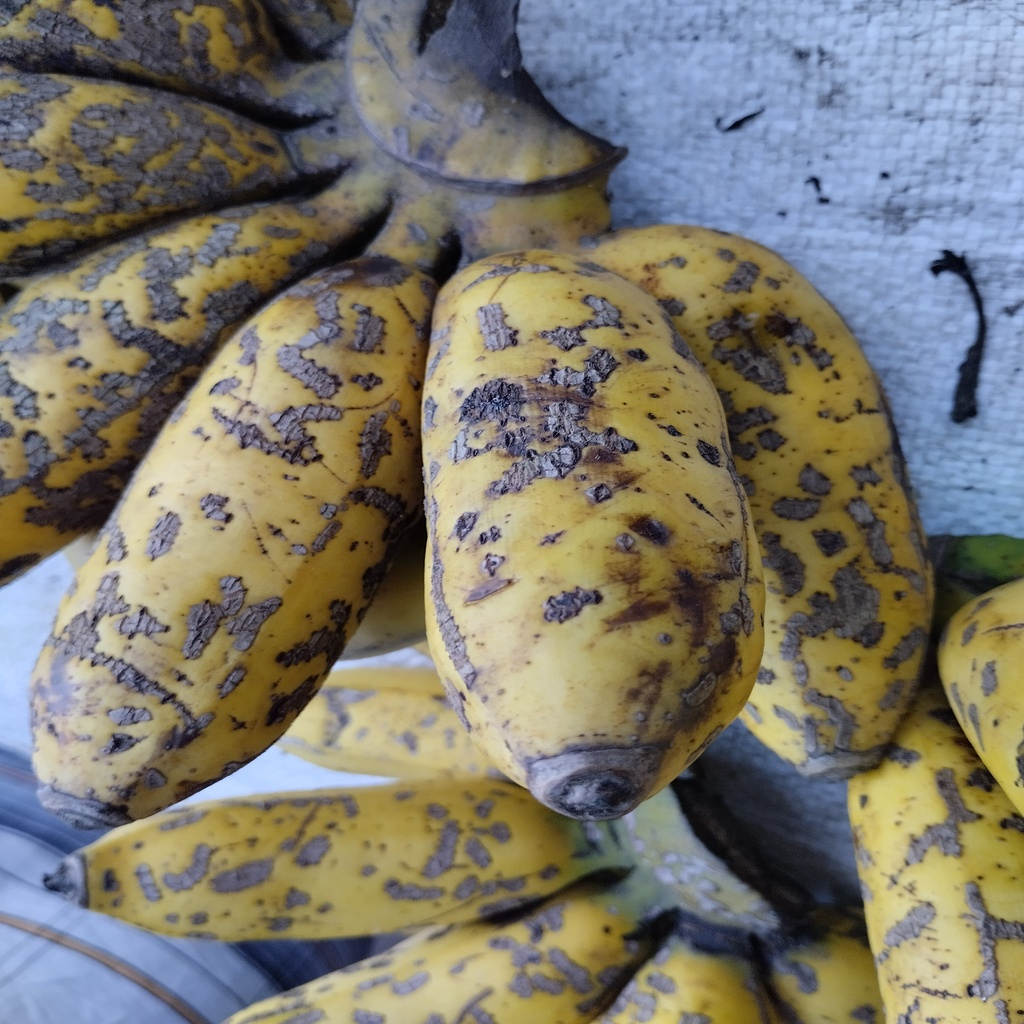unhealthy: (29, 259, 442, 826), (423, 243, 773, 806)
